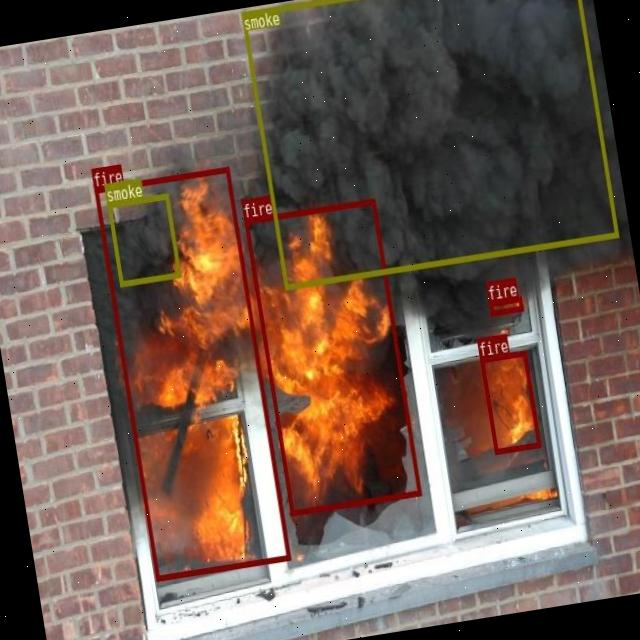fire: (93, 166, 290, 580), (244, 198, 422, 516), (480, 349, 540, 454), (489, 295, 524, 315)
smoke: (240, 0, 617, 288), (106, 193, 180, 286)
